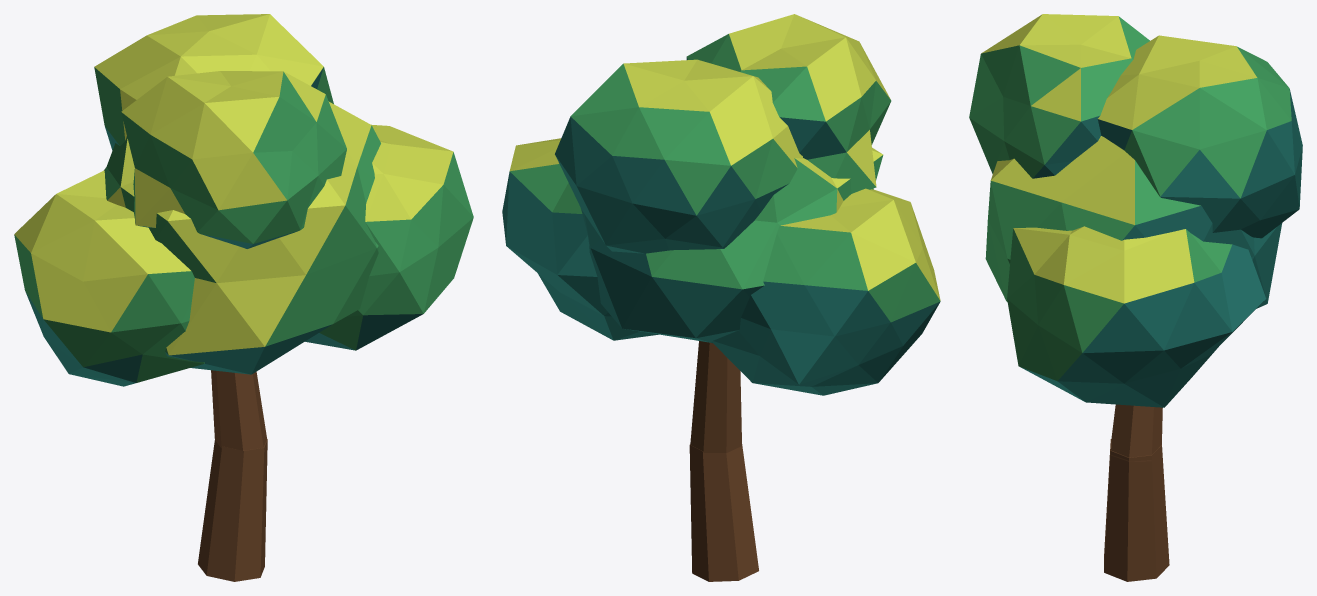
Rendered from Agac_Yuvarlak.fbx.
3 views of the same model, side by side, from view 1: azimuth 30°, elevation 25°; view 2: azimuth 150°, elevation 25°; view 3: azimuth 270°, elevation 25° (orthographic).
Parts seen in each view (by area): view 1: Agac_Yuvarlak; view 2: Agac_Yuvarlak; view 3: Agac_Yuvarlak.
Part boxes in pixels (x1,y1,x2,y2): Agac_Yuvarlak: (14,14,473,581); Agac_Yuvarlak: (502,14,940,581); Agac_Yuvarlak: (969,14,1302,581).
Bounding box in the file's own units: 223 × 265 × 155.
